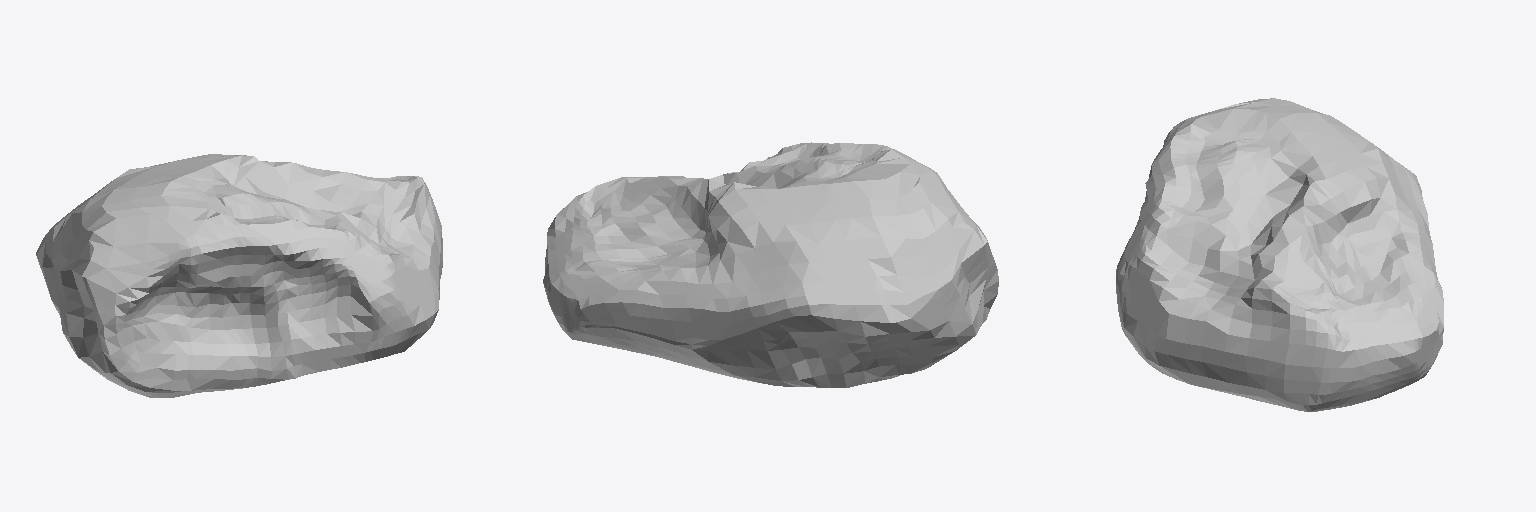
File: Rock_B_LP.obj
3 views of the same model, side by side, from view 1: azimuth 30°, elevation 25°; view 2: azimuth 150°, elevation 25°; view 3: azimuth 270°, elevation 25° (orthographic).
Parts seen in each view (by area): view 1: polySurface145; view 2: polySurface145; view 3: polySurface145.
Part boxes in pixels (x1,y1,x2,y2): polySurface145: (36,154,442,397); polySurface145: (543,142,998,387); polySurface145: (1116,98,1443,411).
Size of the model in its own units: 3.18 by 1.48 by 2.31.